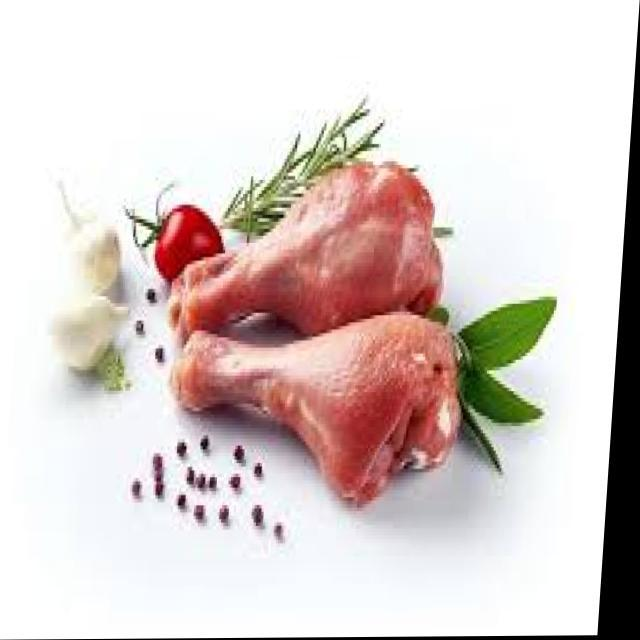leg: (163, 305, 479, 508), (176, 158, 454, 344)
